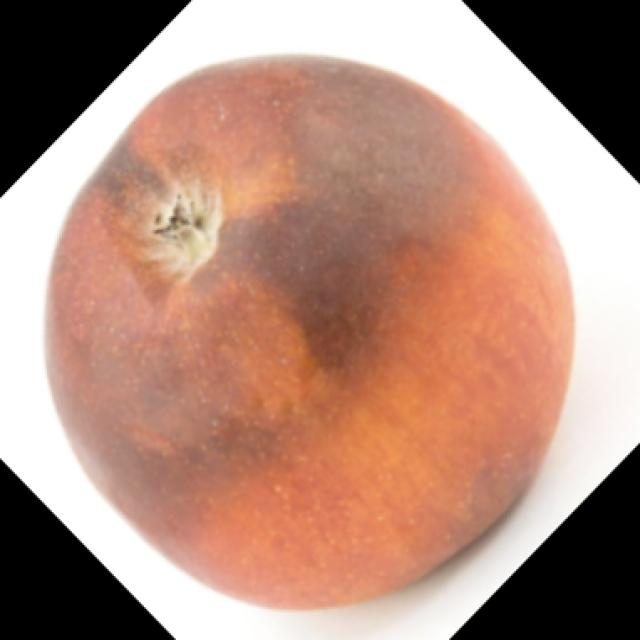Rotten: (35, 46, 583, 615)
